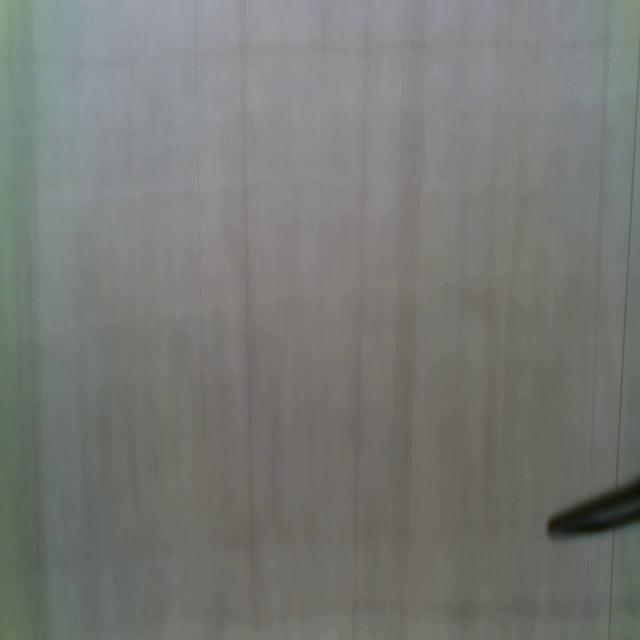color bleeding: (0, 29, 640, 71)
crease: (350, 16, 372, 639), (588, 32, 612, 494), (239, 3, 257, 596), (615, 62, 640, 480), (193, 0, 208, 640), (317, 19, 328, 278), (606, 532, 617, 640), (582, 537, 593, 640)
